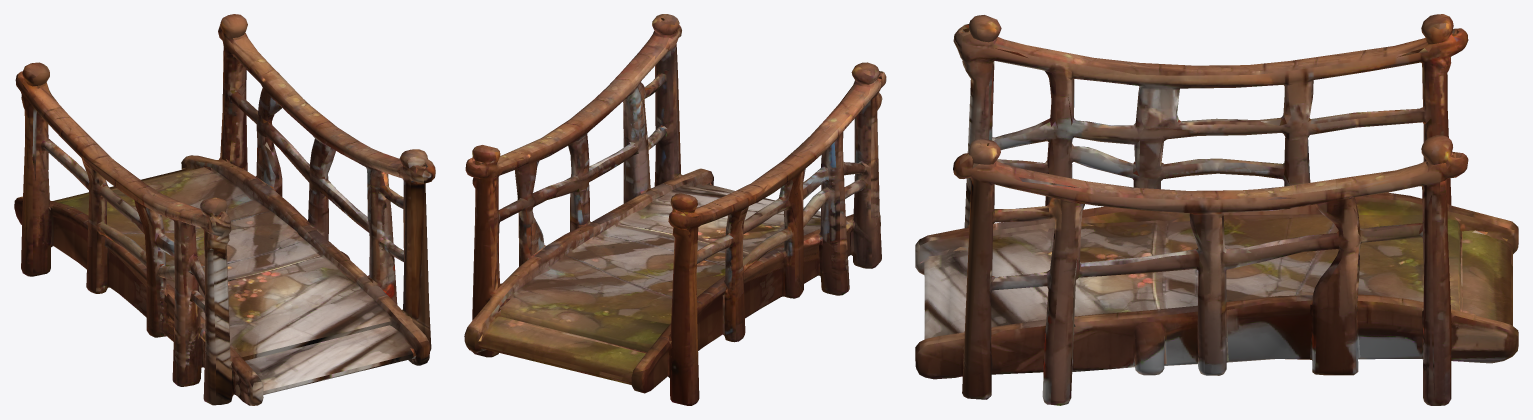
File: bridge.glb
3 renders of one model, left to right at view 1: azimuth 30°, elevation 25°; view 2: azimuth 150°, elevation 25°; view 3: azimuth 270°, elevation 25°, orthographic. The views are drawn at different scales.
Parts seen in each view (by area): view 1: Body; view 2: Body; view 3: Body.
Boxes of the visible parts, <box> form: Body: <box>14,14,435,405</box>; Body: <box>464,14,886,405</box>; Body: <box>915,14,1518,405</box>.
Size of the model in its own units: 1.82 by 1.6 by 3.36.
1 material, 1 textured.
